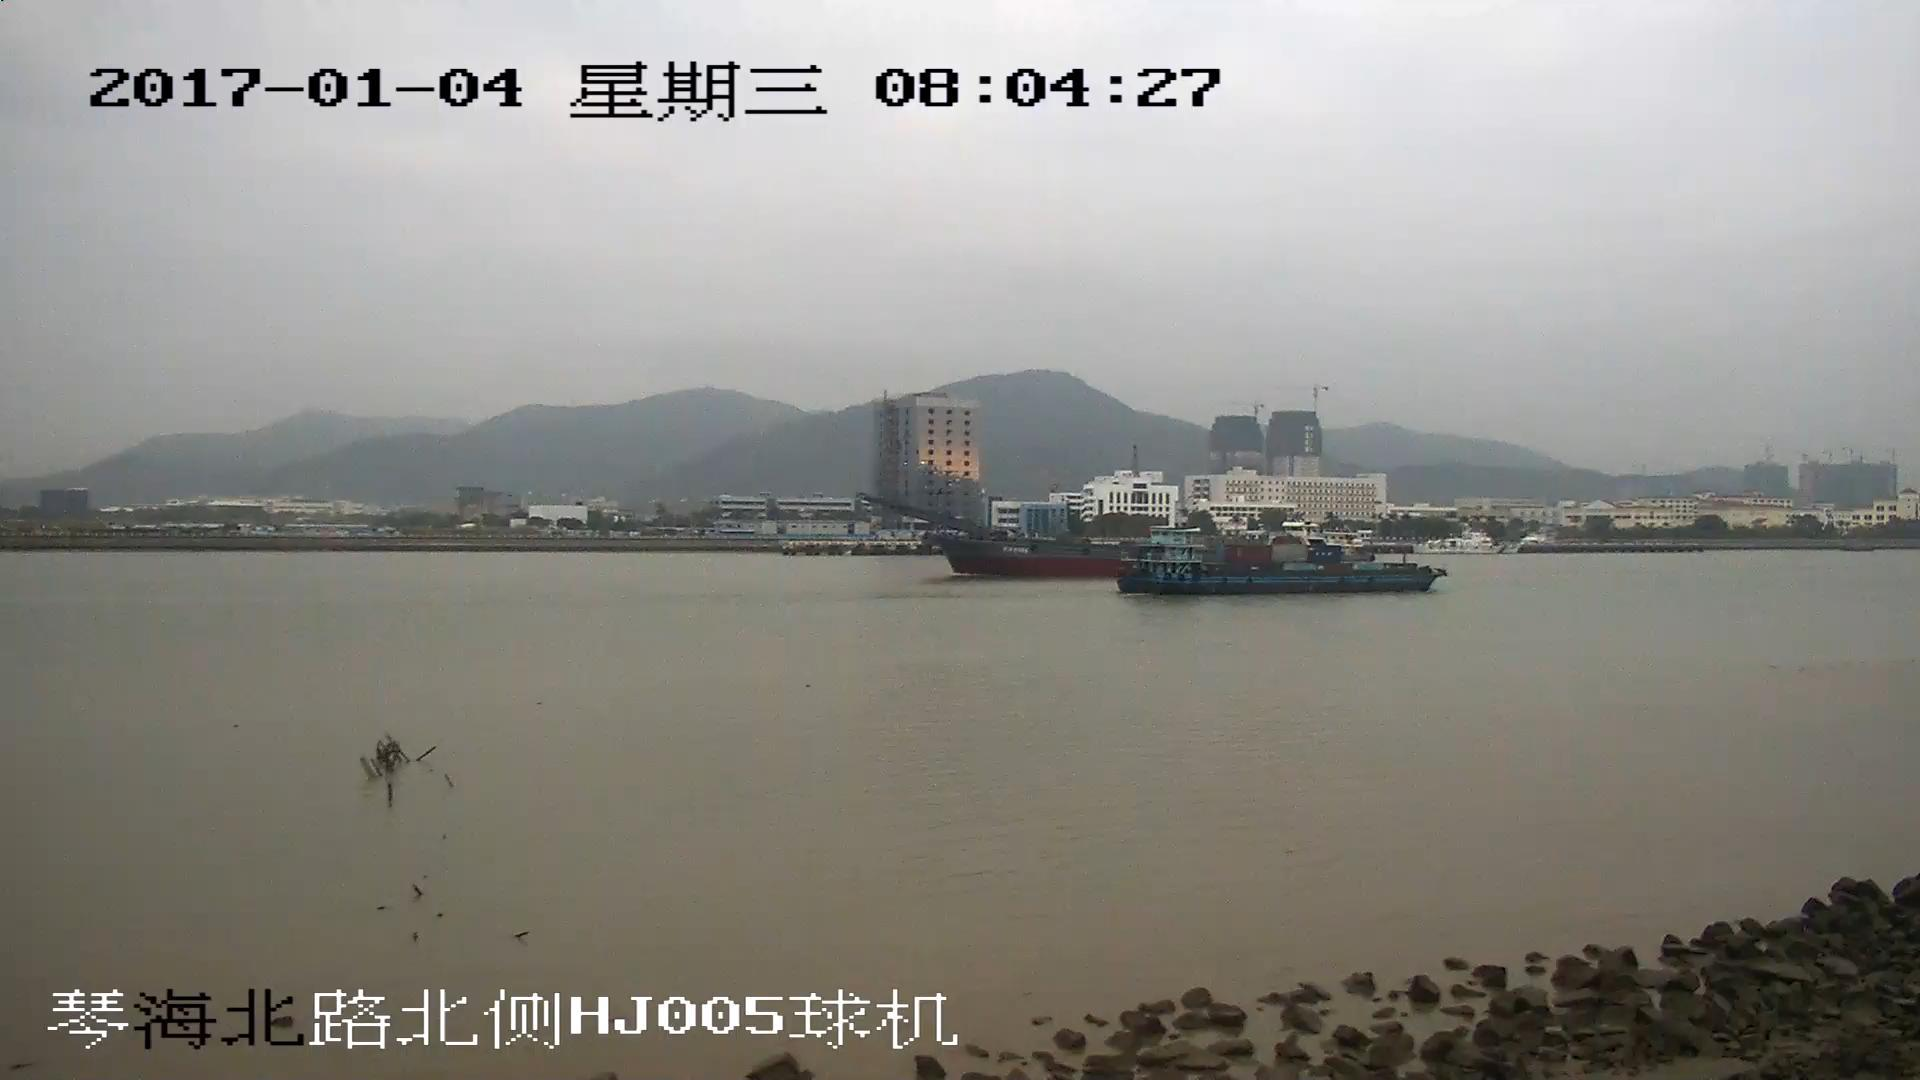Ship: (864, 495, 1125, 582), (1125, 531, 1445, 595)
